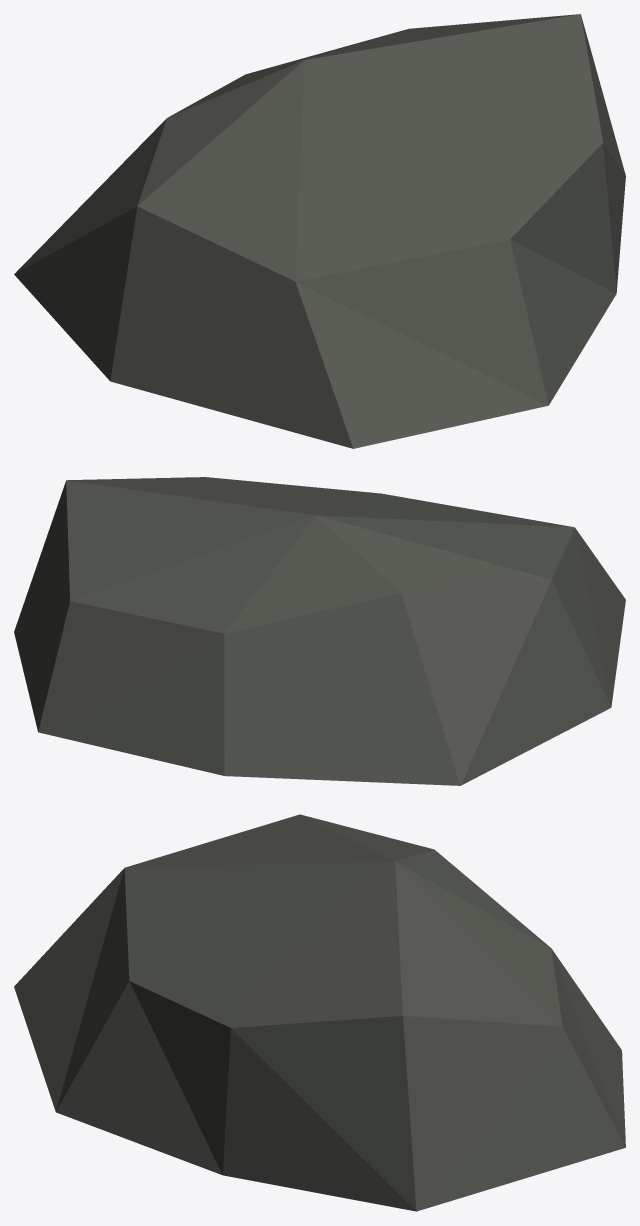
Rendered from S_Stone_01.fbx.
The picture shows the model from 3 angles, top to bottom: view 1: azimuth 30°, elevation 25°; view 2: azimuth 150°, elevation 25°; view 3: azimuth 270°, elevation 25°; orthographic projection. The views are drawn at different scales.
Parts seen in each view (by area): view 1: S_Stone_01; view 2: S_Stone_01; view 3: S_Stone_01.
Boxes of the visible parts, left/top/right/bottom form: S_Stone_01: left=14, top=14, right=625, bottom=448; S_Stone_01: left=14, top=477, right=625, bottom=785; S_Stone_01: left=14, top=814, right=625, bottom=1211.
Size of the model in its own units: 55.82 by 20.66 by 52.02.
Materials: 1 (1 with a texture image).
